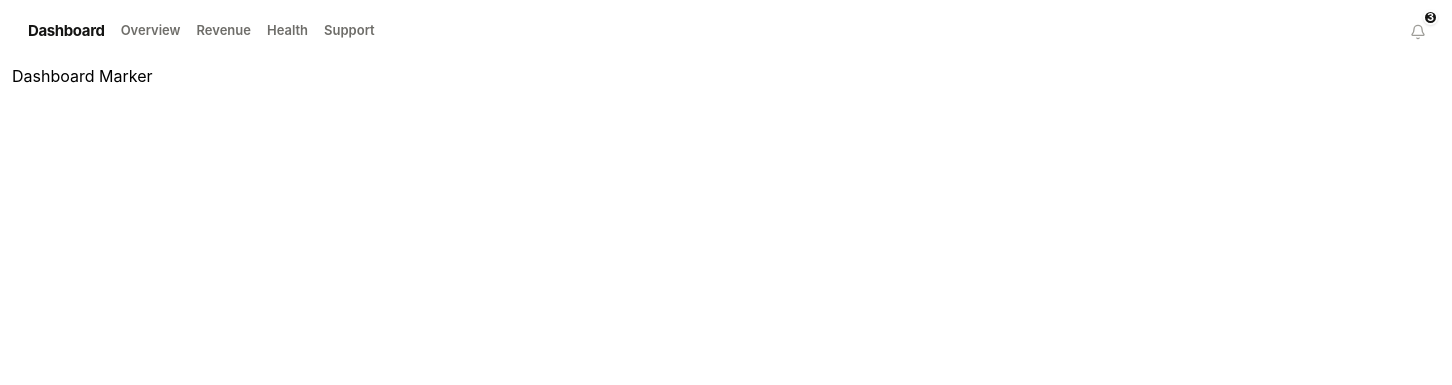
it: Navbar notification bell › marks the two plan kinds with an icon, and no other kind
Click the button named "Notifications" at (1418, 32), box left=1400, top=14, right=1436, bottom=50
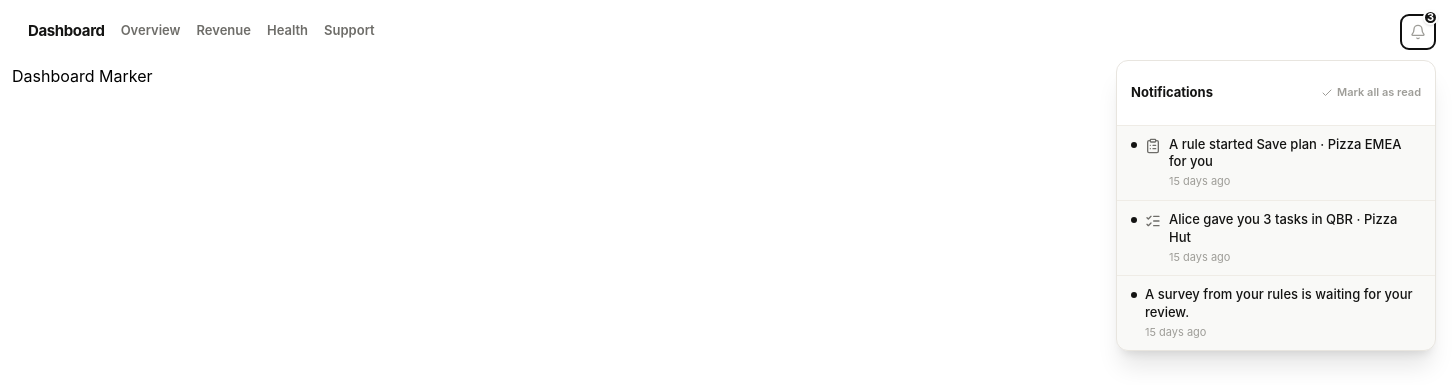
Now the 4th icon is shown, box left=1145, top=213, right=1161, bottom=229
